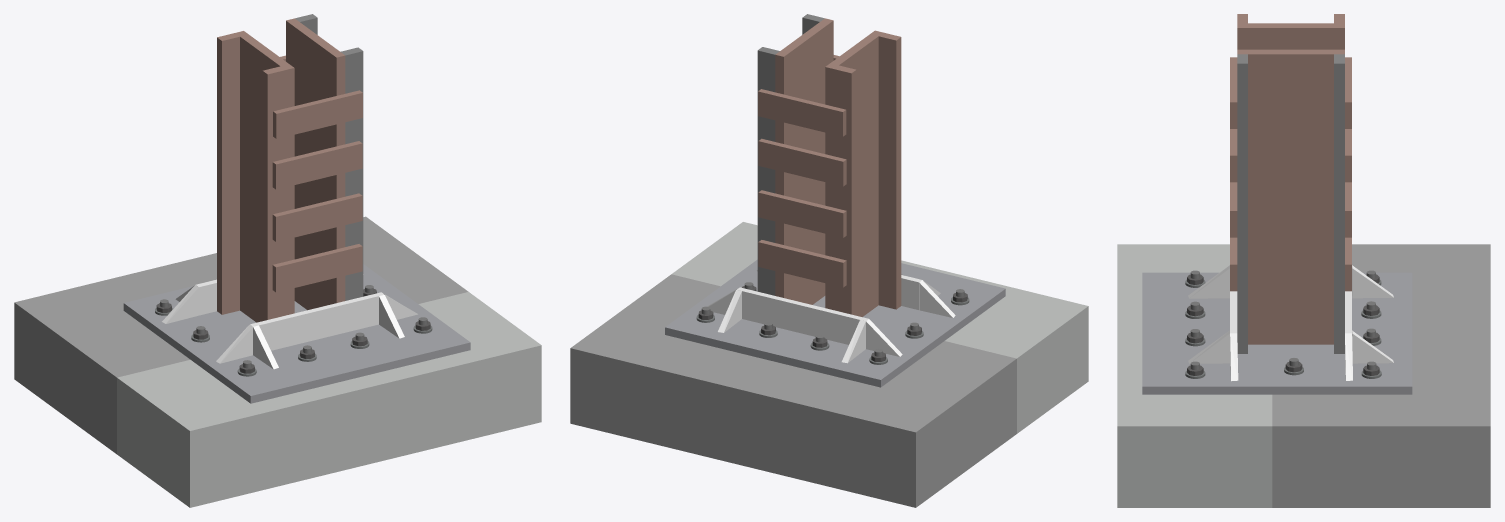
Rendered from maqueta-MA05.glb.
The picture shows the model from 3 angles, left to right: view 1: azimuth 30°, elevation 25°; view 2: azimuth 150°, elevation 25°; view 3: azimuth 270°, elevation 25°; orthographic projection. The views are drawn at different scales.
Parts seen in each view (by area): view 1: geometry_8, 29_____011.obj, geometry_7, geometry_0, 4______011.obj, 32_____011.obj, 2______011.obj; view 2: geometry_7, 29_____011.obj, geometry_8, geometry_0, 4______011.obj, 32_____011.obj, 2______011.obj; view 3: geometry_7, 29_____011.obj, geometry_8, geometry_0, 32_____011.obj, 4______011.obj, 2______011.obj, 3______011.obj, 1______011.obj.
Boxes of the visible parts, box(x1,y1,x2,y2) form: geometry_8: box(117, 292, 541, 507); 29_____011.obj: box(217, 18, 362, 322); geometry_7: box(14, 216, 468, 454); geometry_0: box(123, 264, 470, 403); 4______011.obj: box(162, 274, 417, 369); 32_____011.obj: box(295, 14, 363, 300); 2______011.obj: box(156, 289, 430, 373); geometry_7: box(570, 274, 1016, 507); 29_____011.obj: box(758, 18, 901, 316); geometry_8: box(672, 222, 1088, 433); geometry_0: box(665, 259, 1005, 387); 4______011.obj: box(707, 270, 955, 363); 32_____011.obj: box(757, 14, 824, 295); 2______011.obj: box(698, 286, 967, 361); geometry_7: box(1272, 244, 1490, 507); 29_____011.obj: box(1230, 14, 1351, 344); geometry_8: box(1117, 244, 1272, 507); geometry_0: box(1142, 272, 1412, 394); 32_____011.obj: box(1237, 54, 1344, 353); 4______011.obj: box(1188, 265, 1393, 381); 2______011.obj: box(1187, 274, 1379, 375); 3______011.obj: box(1190, 270, 1376, 369); 1______011.obj: box(1185, 279, 1381, 378).
Size of the model in its own units: 1.33 by 1.3 by 1.15.
